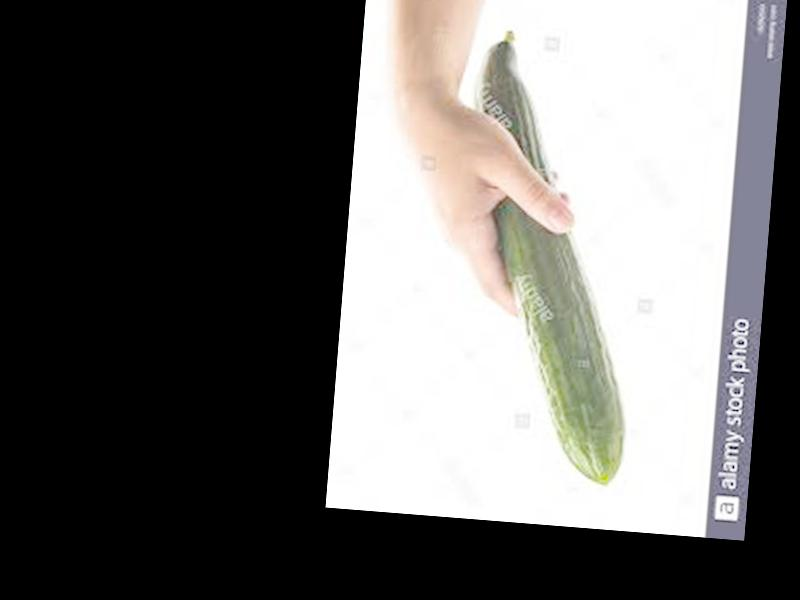Cucumber: (444, 26, 656, 487)
